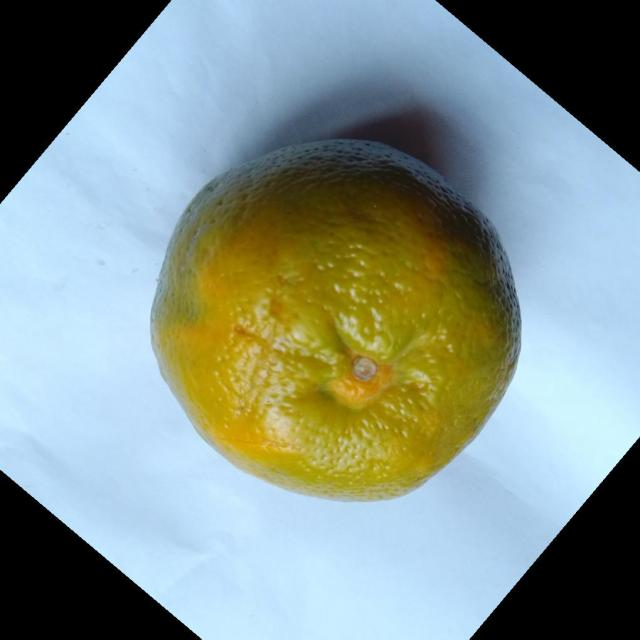fresh orange: (148, 136, 522, 503)
